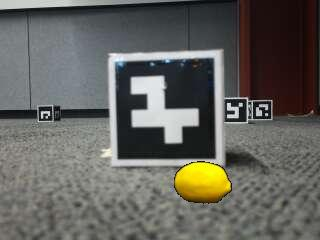lemon: (176, 163, 232, 203)
